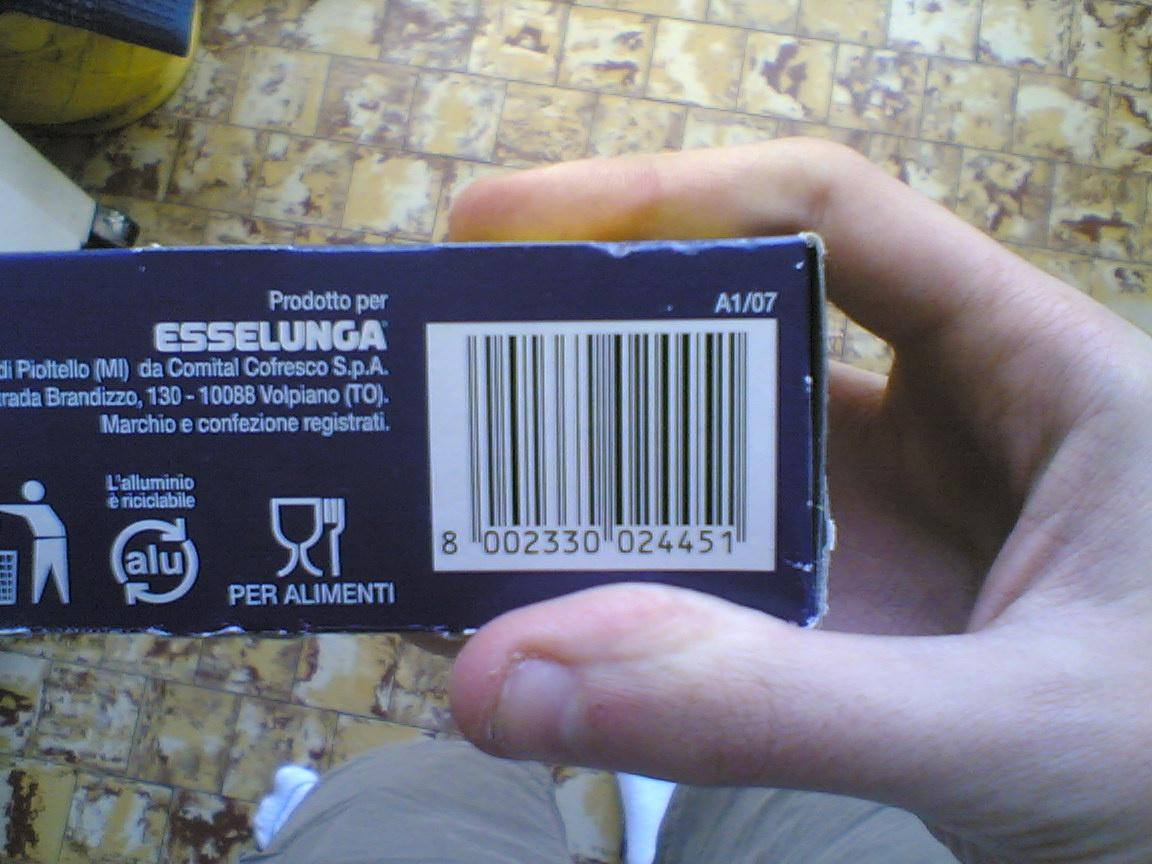Barcode: (422, 317, 775, 569)
